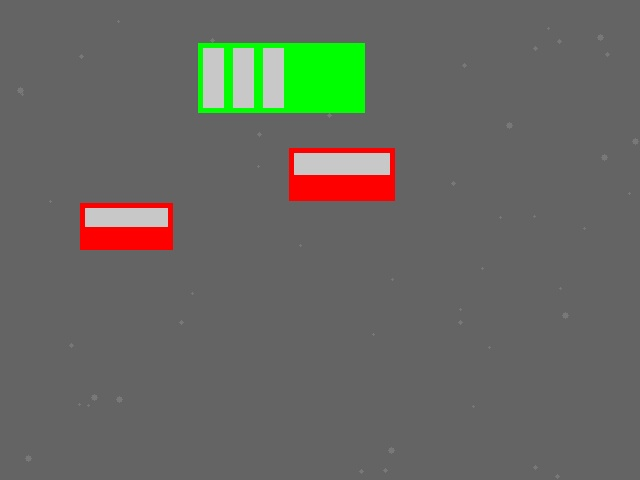bus: (198, 43, 364, 112)
car: (289, 148, 394, 200), (80, 203, 172, 249)
